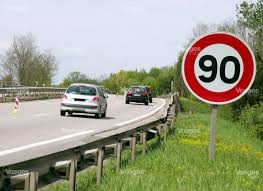Speed_limit_90km: (181, 32, 256, 104)
car: (57, 82, 111, 121), (123, 84, 150, 107)
